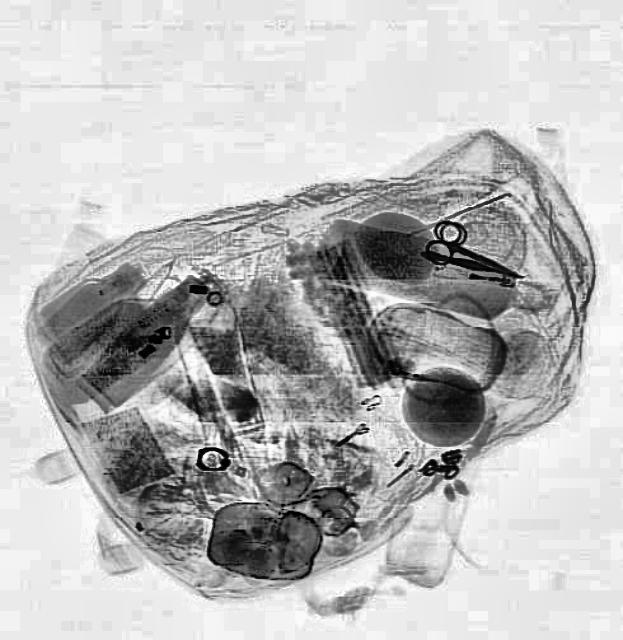Scissors: (418, 214, 530, 294)
